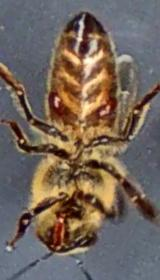varroa_mite: (91, 90, 118, 124), (43, 84, 69, 116)
